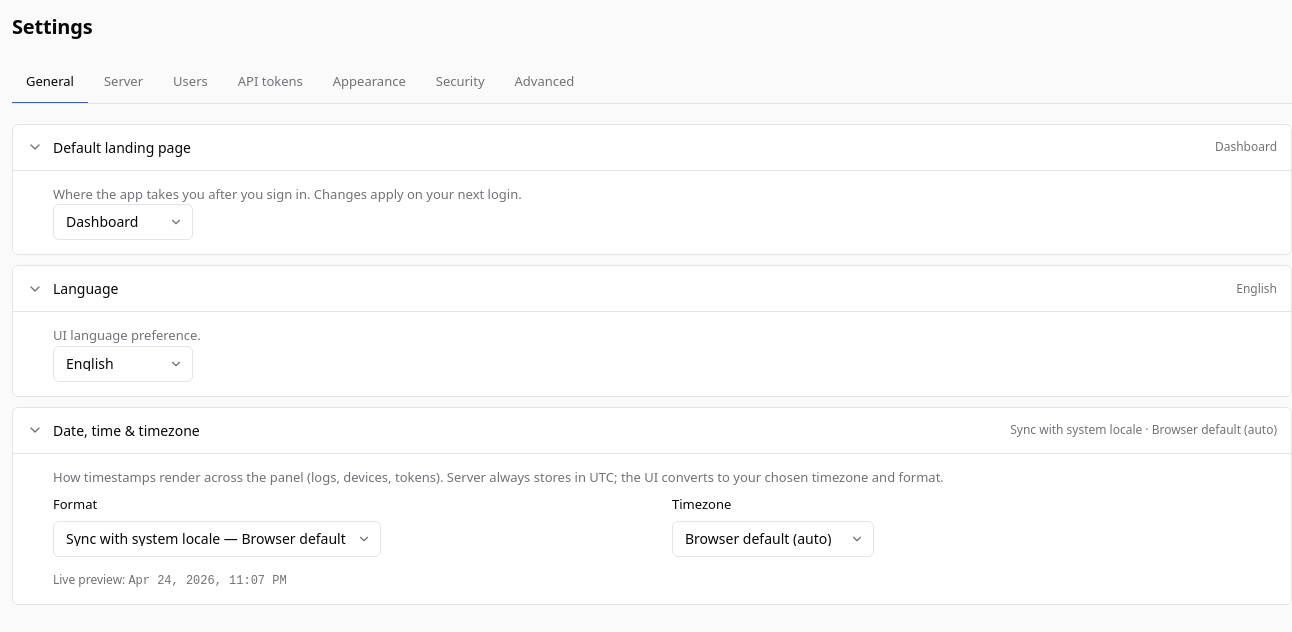
Scenario: <SettingsPage /> › shows the Advanced tab with the export button and build info
The width and height of the screenshot is (1292, 632).
What coordinates should you click on to do the following:
click the tab "Advanced"
I would click on:
 (544, 83)
Its box is 500,62 -> 588,104.
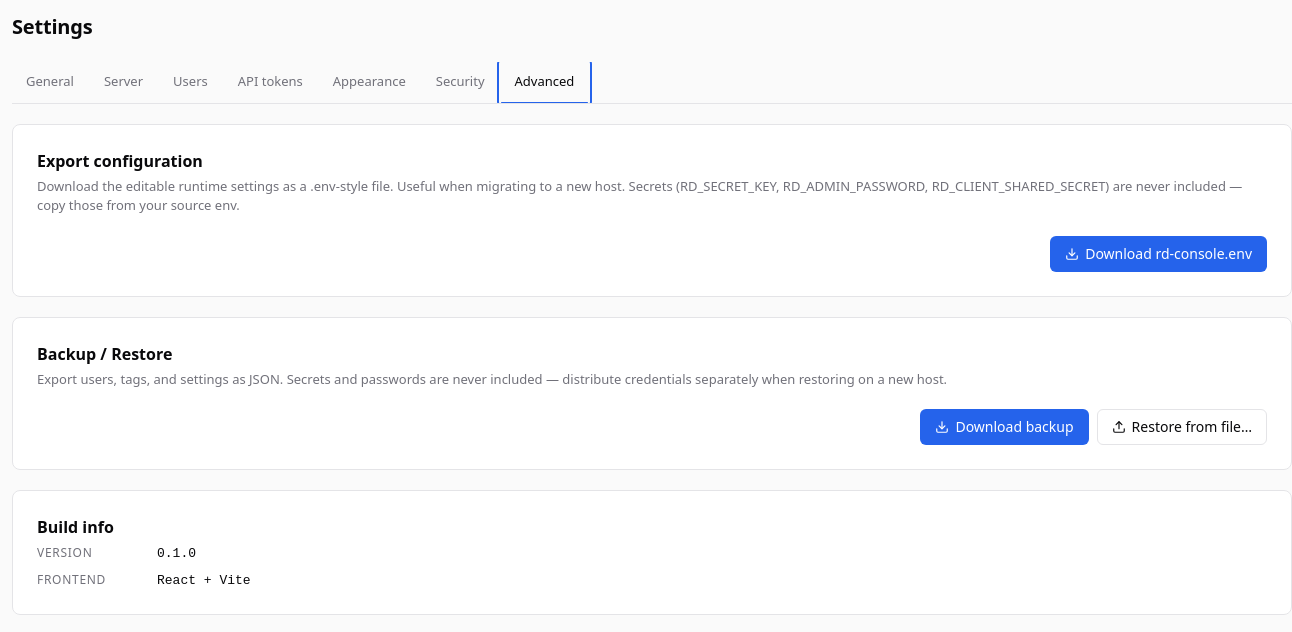
Expected: the button "Download rd-console.env" is shown, 1050,236 -> 1267,272
Expected: the text "0.1.0" is shown, 157,546 -> 196,561
